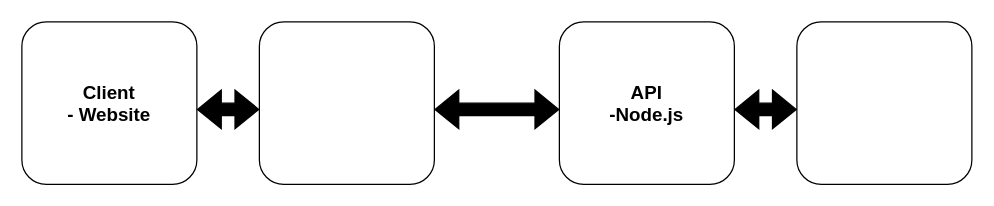
Image size: 994x206. Some labels were removed from this diagram. Each missing label, with the centre of its shape:
Database -SQL Express: [884,102]
Frontend -React: [346,102]
